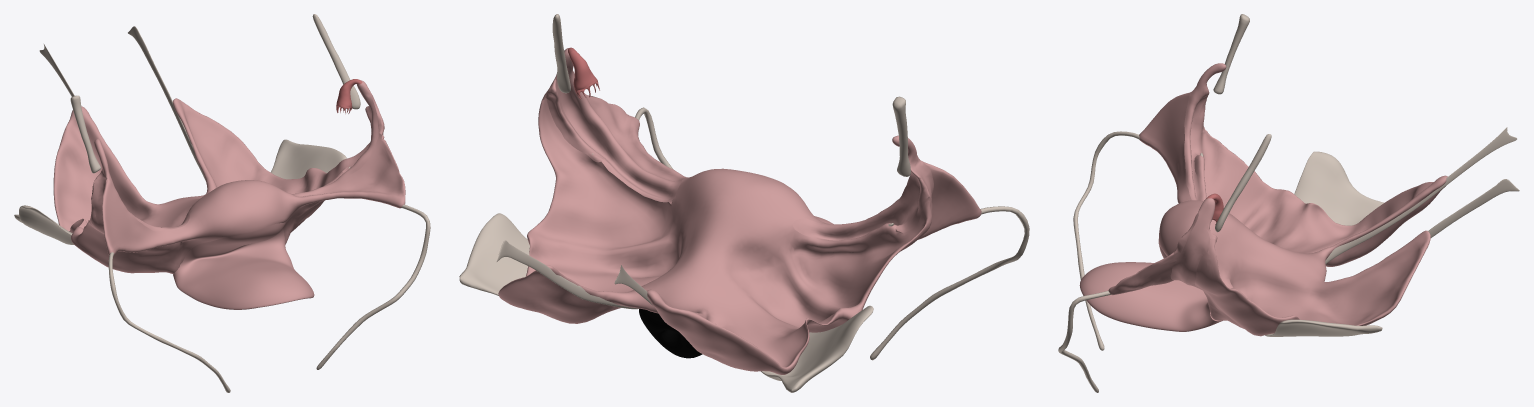
File: 3d-vh-f-ovary-l-landmark.fbx
The picture shows the model from 3 angles, left to right: view 1: azimuth 30°, elevation 25°; view 2: azimuth 150°, elevation 25°; view 3: azimuth 270°, elevation 25°; orthographic projection. The views are drawn at different scales.
Parts seen in each view (by area): view 1: VH_F_ovary_L_landmark_ligaments_of_uterus_and_ovaries, VH_F_ovary_L_landmark_fallopian_tube; view 2: VH_F_ovary_L_landmark_ligaments_of_uterus_and_ovaries, VH_F_ovary_L_landmark_uterus, VH_F_ovary_L_landmark_fallopian_tube; view 3: VH_F_ovary_L_landmark_ligaments_of_uterus_and_ovaries.
Boxes of the visible parts, x1,y1,x2,y2 form: VH_F_ovary_L_landmark_ligaments_of_uterus_and_ovaries: [14, 14, 430, 392]; VH_F_ovary_L_landmark_fallopian_tube: [336, 79, 362, 113]; VH_F_ovary_L_landmark_ligaments_of_uterus_and_ovaries: [459, 14, 1029, 392]; VH_F_ovary_L_landmark_uterus: [639, 308, 702, 358]; VH_F_ovary_L_landmark_fallopian_tube: [568, 47, 599, 98]; VH_F_ovary_L_landmark_ligaments_of_uterus_and_ovaries: [1058, 14, 1519, 392].
Size of the model in its own units: 14.71 by 12.34 by 17.06.
